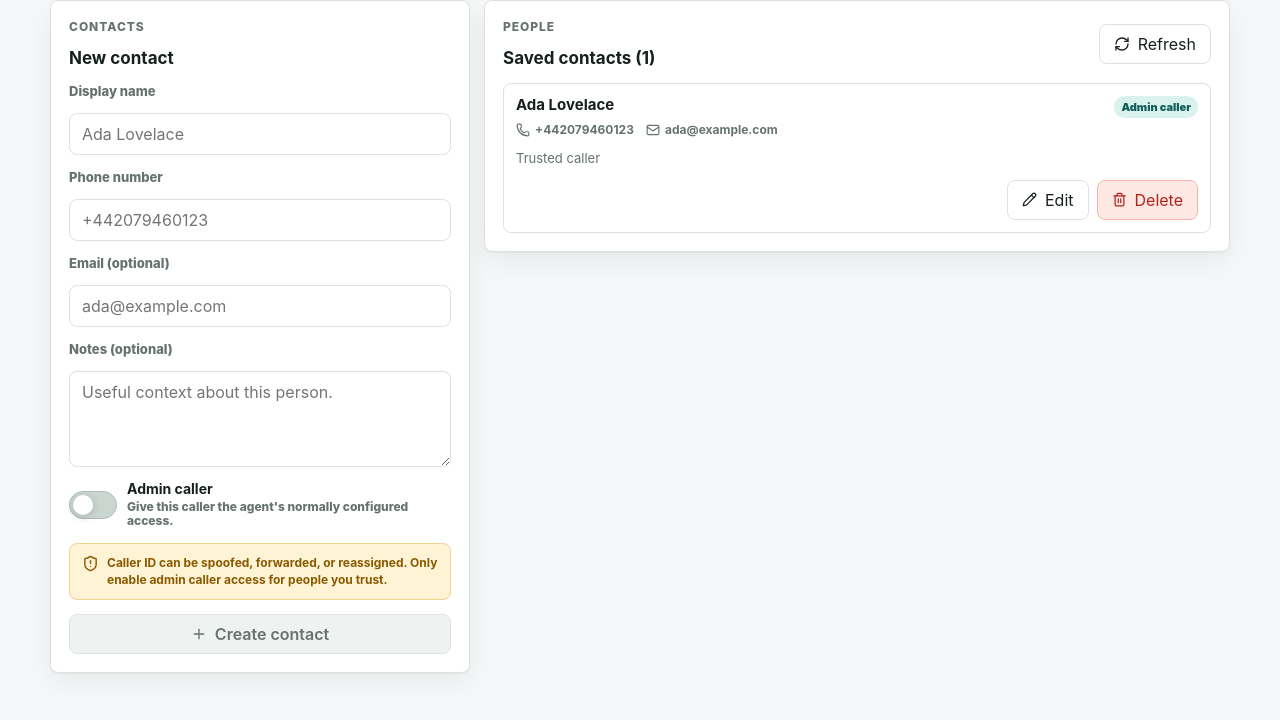
ContactsPage › edits a contact and clears optional fields
Click the button with aria-label "Edit Ada Lovelace" at (1048, 200), box x1=1007 y1=180 x2=1088 y2=220
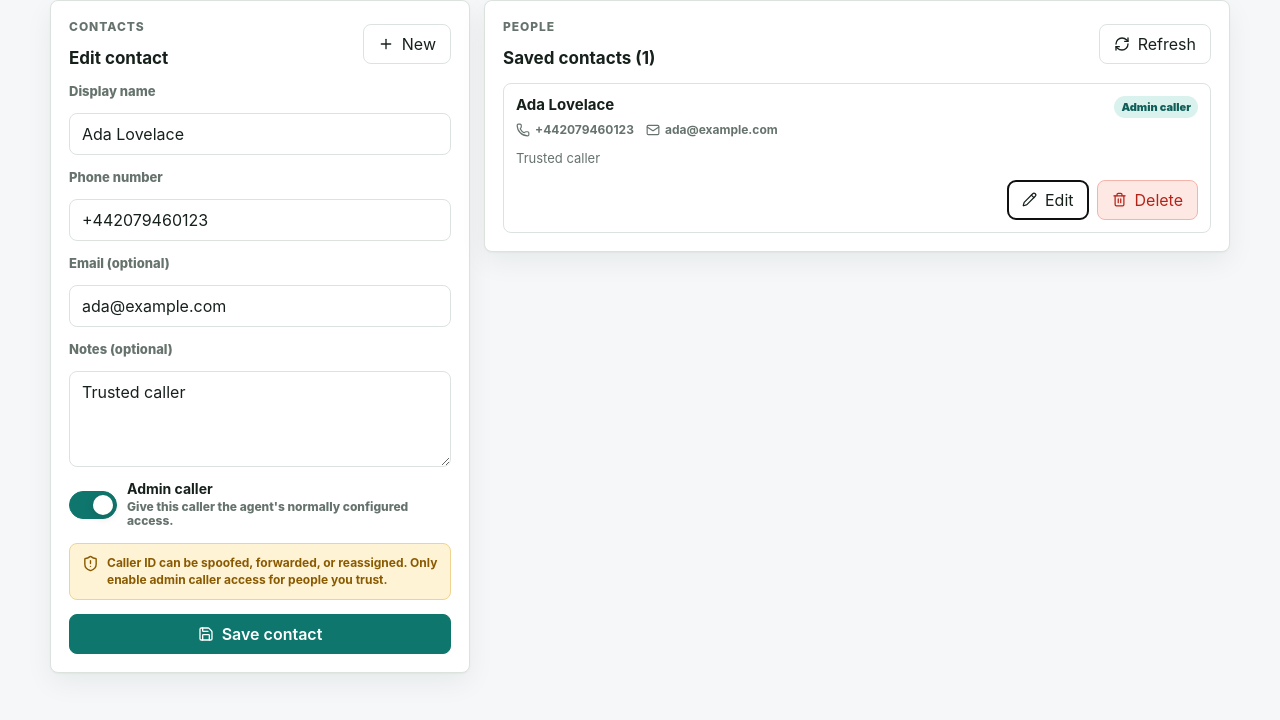
Now the switch labelled "Admin caller" is checked, box x1=69 y1=481 x2=451 y2=529
Clear the field labelled "Email (optional)" at (260, 306), box x1=69 y1=285 x2=451 y2=327
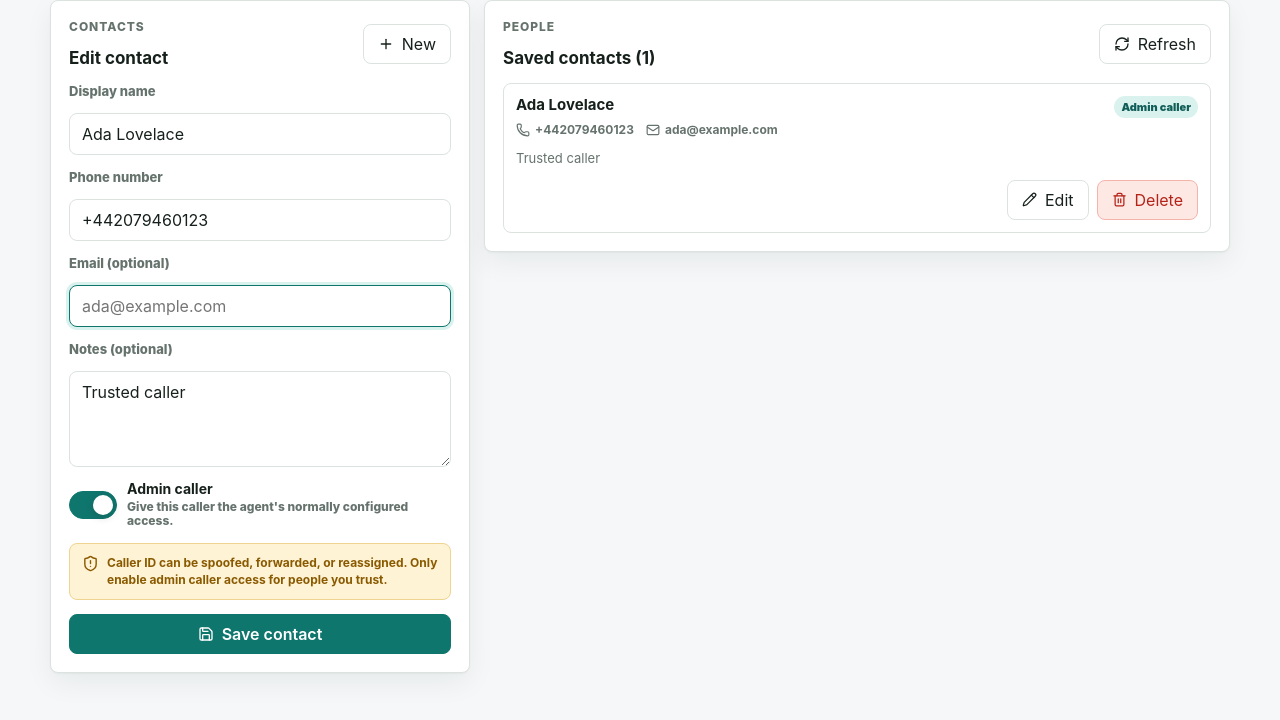
Clear the text box labelled "Notes (optional)" at (260, 419), box x1=69 y1=371 x2=451 y2=467
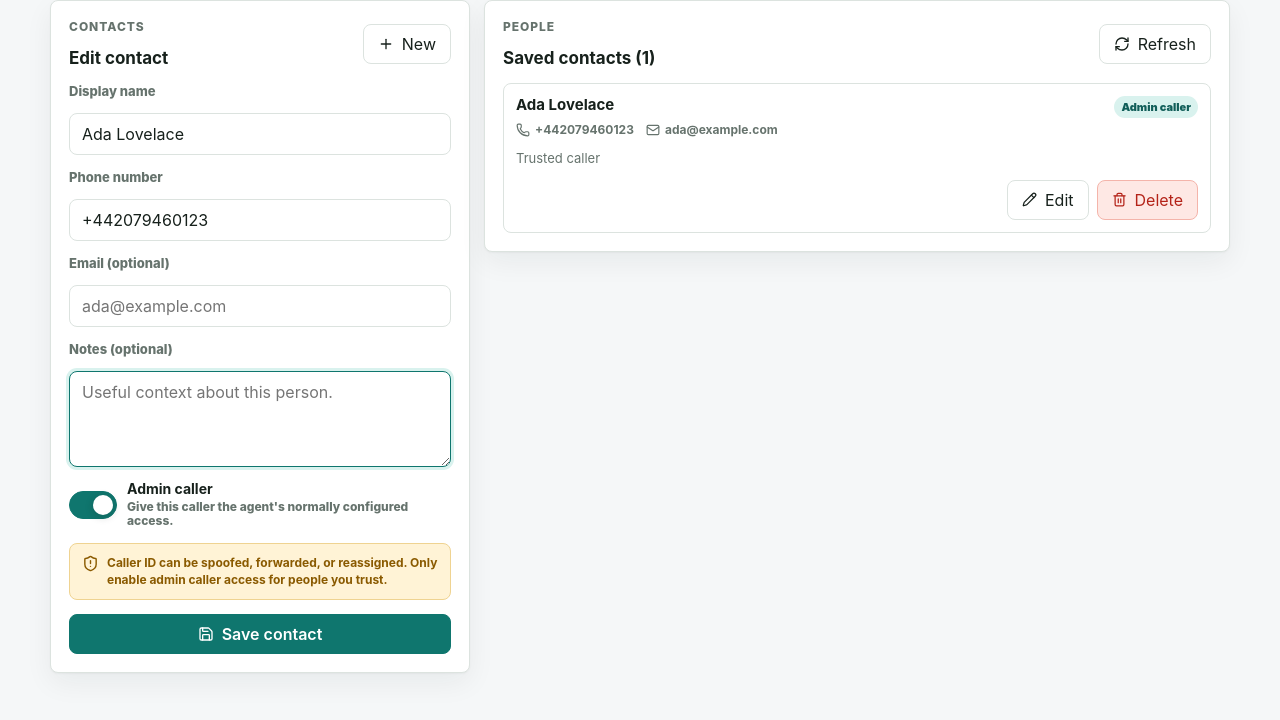
Click the switch labelled "Admin caller" at (260, 505), box x1=69 y1=481 x2=451 y2=529
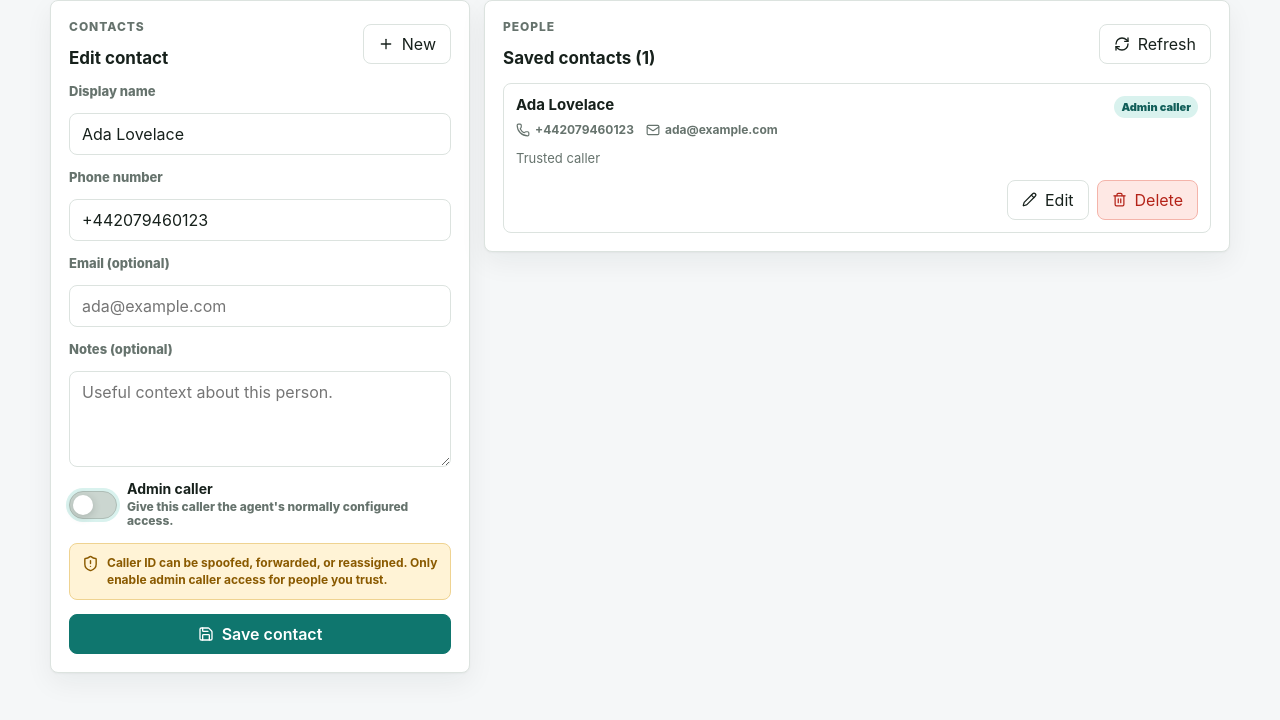
Click the button "Save contact" at (260, 634), box x1=69 y1=614 x2=451 y2=654
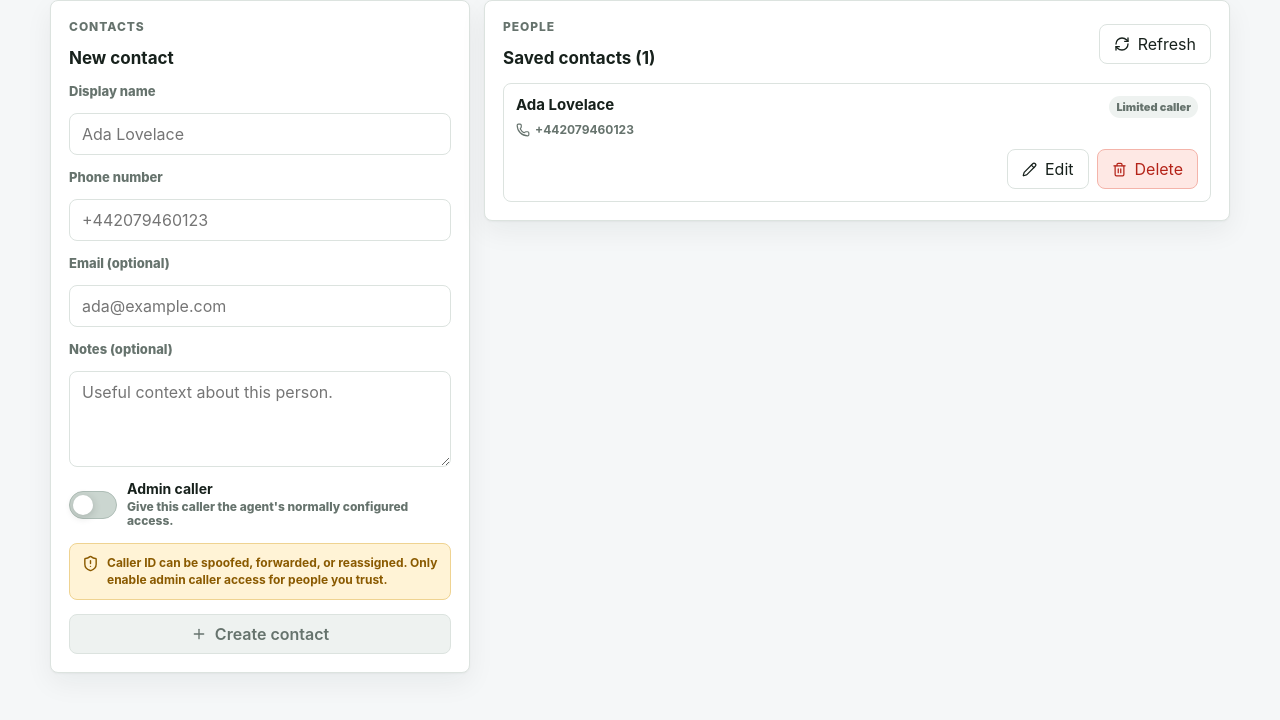
Now the text "Limited caller" is shown, box x1=1109 y1=96 x2=1198 y2=118
Now the text "Trusted caller" is gone
